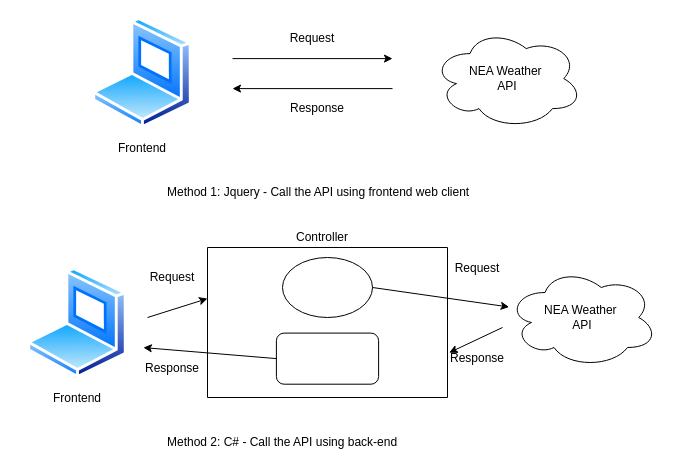
Image size: 675x476. Some labels were removed from this diagram. The shapes that lost their labels are listed below. From the top down, each one's centre as x and y in pixels, then its label:
pixel 327 287: HTTP Client
pixel 327 358: Model
